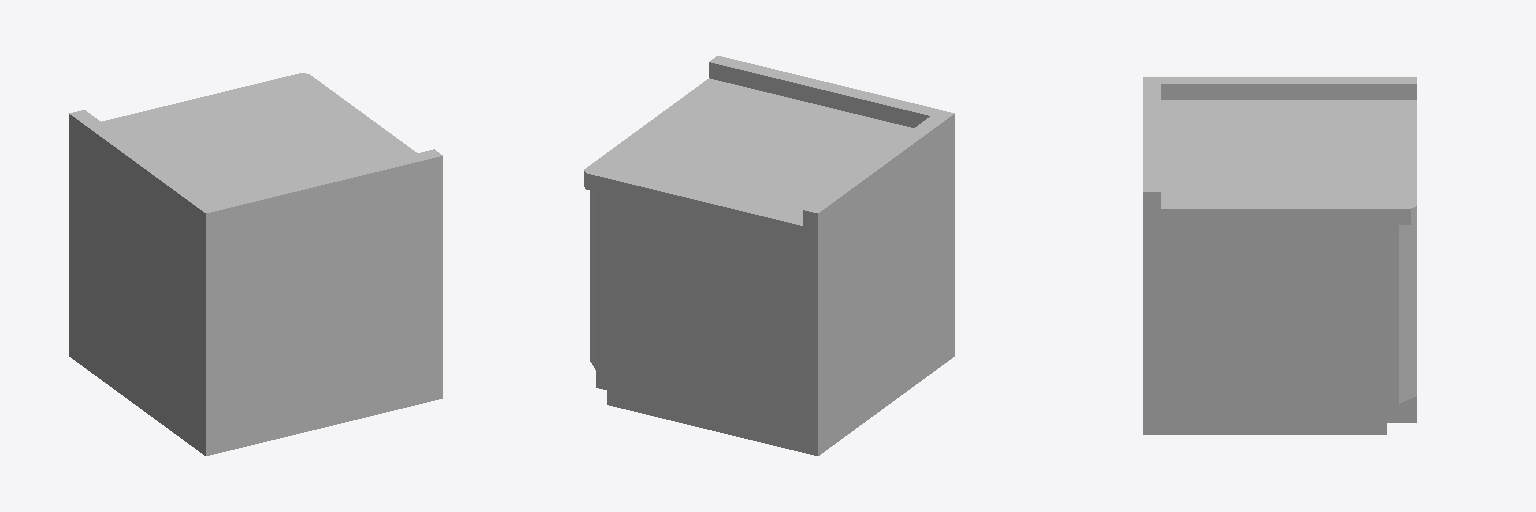
The model's file is kitchenCabinetCornerInner.obj.
The picture shows the model from 3 angles: view 1: azimuth 30°, elevation 25°; view 2: azimuth 150°, elevation 25°; view 3: azimuth 270°, elevation 25°; orthographic projection.
Visible parts, largest first — view 1: kitchenCabinetCornerInner; view 2: kitchenCabinetCornerInner; view 3: kitchenCabinetCornerInner.
Boxes of the visible parts, <box> form: kitchenCabinetCornerInner: <box>69,73,442,455</box>; kitchenCabinetCornerInner: <box>584,56,954,455</box>; kitchenCabinetCornerInner: <box>1143,77,1416,434</box>.
Size of the model in its own units: 0.46 by 0.45 by 0.46.